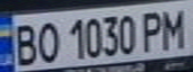0: (118, 11, 142, 55), (81, 14, 103, 58)
1: (63, 15, 84, 60)
3: (100, 12, 121, 57)
B: (6, 19, 42, 66)
M: (157, 3, 190, 50)
O: (33, 18, 60, 64)
P: (136, 7, 169, 52)
